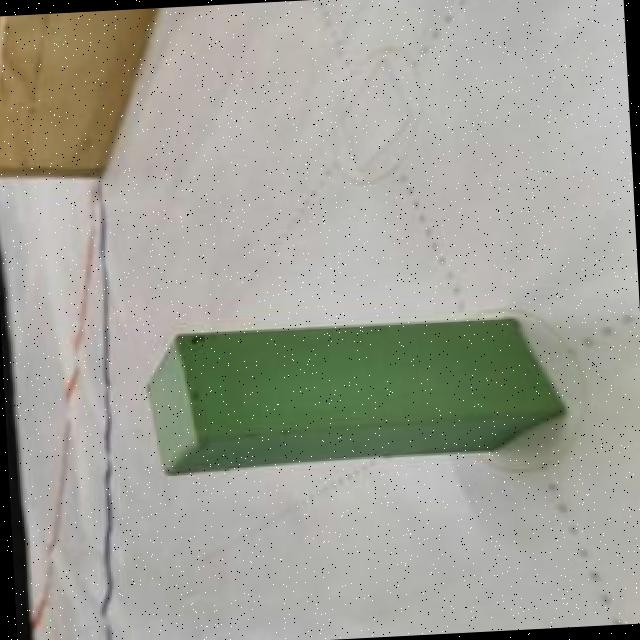greenbox: (135, 310, 570, 480)
